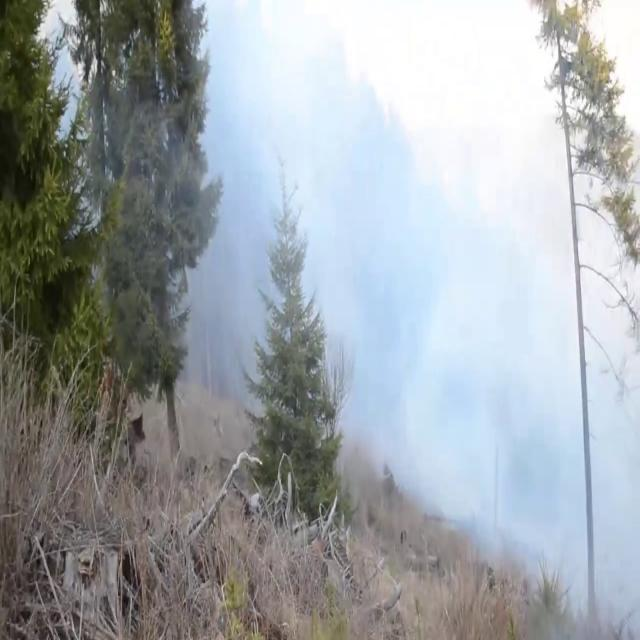Smoke: (173, 0, 639, 564)
